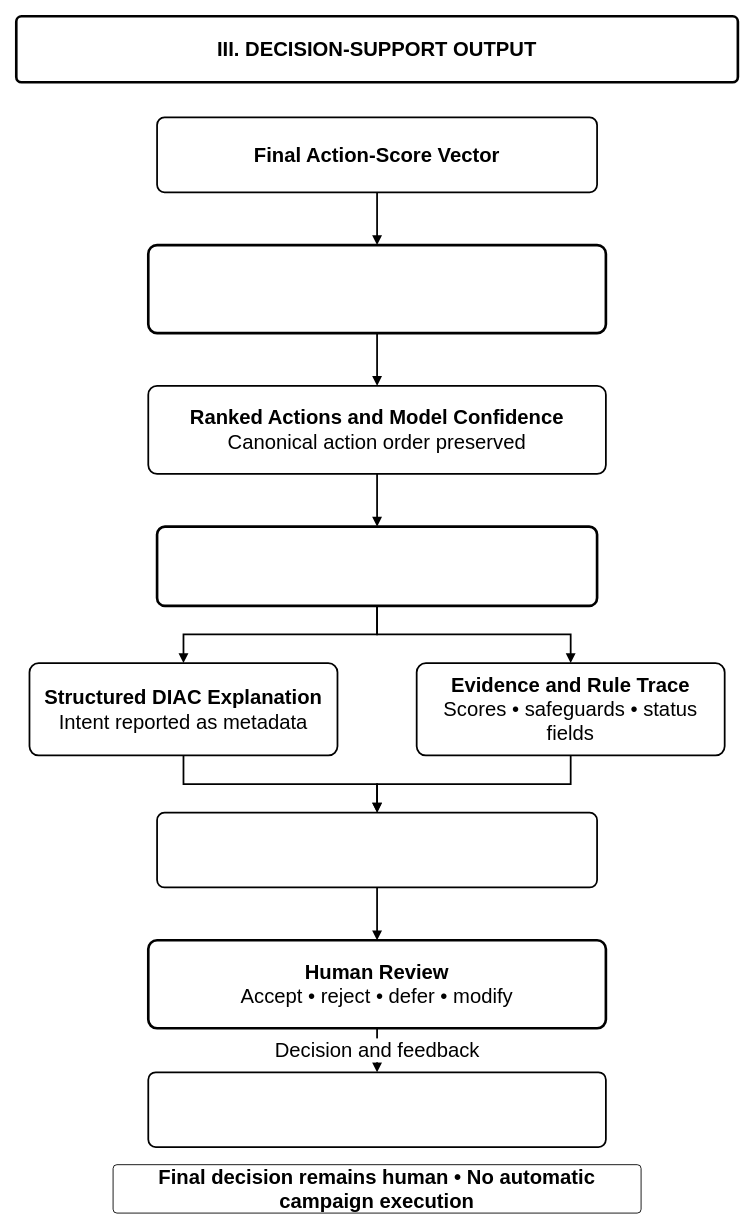
Some shapes in this 754 by 1228 pixel diagram are drawn without their labels. The centre of each missing label's shape, as x and y in pixels:
"Confidence Calibration Validation-fitted temperature scaling" goes at [377,288].
"Persisted Recommendation and Audit Record" goes at [376,1109].
"React Recommendation View" goes at [377,849].
"Recommendation Package" goes at [376,566].
